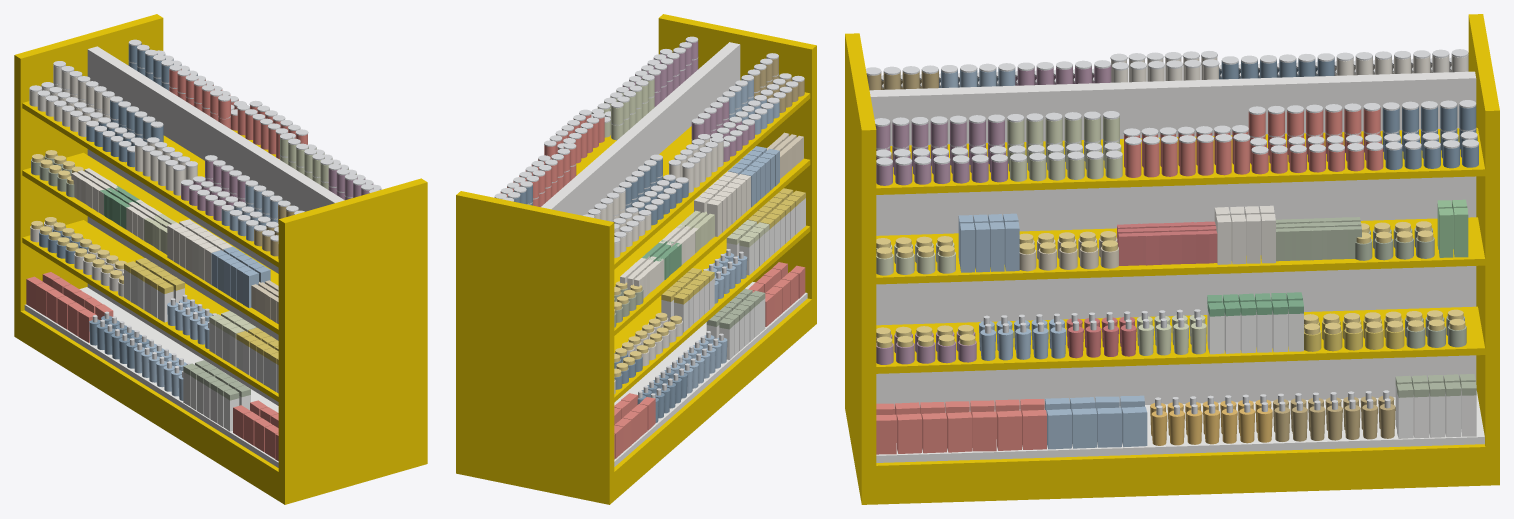
File: minimarket_rack_stocked_yellow.glb
3 renders of one model, left to right at view 1: azimuth 30°, elevation 25°; view 2: azimuth 150°, elevation 25°; view 3: azimuth 270°, elevation 25°, orthographic. The views are drawn at different scales.
Visible parts, largest first — view 1: Goods, upright_L, plinth, spine, upright_R, shelf_back_1, shelf_back_0, deck_base, shelf_back_2; view 2: Goods, upright_R, plinth, upright_L, spine, shelf_back_1, shelf_back_0, shelf_back_2, deck_base, shelf_front_2; view 3: Goods, spine, plinth, upright_L, shelf_front_0, upright_R, shelf_front_1, shelf_front_2, deck_base.
Boxes of the visible parts, x1,y1,x2,y2 form: Goods: (26, 39, 381, 460); upright_L: (278, 178, 427, 504); plinth: (14, 308, 427, 504); spine: (87, 46, 344, 405); upright_R: (14, 14, 163, 339); shelf_back_1: (22, 152, 278, 334); shelf_back_0: (22, 220, 278, 401); deck_base: (24, 287, 278, 467); shelf_back_2: (22, 101, 278, 267); Goods: (494, 36, 805, 459); upright_R: (456, 191, 614, 504); plinth: (456, 295, 816, 504); upright_L: (658, 14, 816, 324); spine: (541, 42, 740, 215); shelf_back_1: (614, 148, 810, 335); shelf_back_0: (614, 225, 810, 402); shelf_back_2: (614, 92, 810, 269); deck_base: (614, 282, 807, 466); shelf_front_2: (576, 135, 616, 175); Goods: (866, 49, 1478, 454); spine: (869, 71, 1476, 410); plinth: (845, 371, 1499, 504); upright_L: (845, 33, 876, 504); shelf_front_0: (876, 306, 1485, 373); upright_R: (1468, 14, 1499, 485); shelf_front_1: (876, 217, 1485, 284); shelf_front_2: (876, 128, 1485, 194); deck_base: (876, 391, 1484, 462).
Size of the model in its own units: 1.03 by 1.55 by 2.46.
